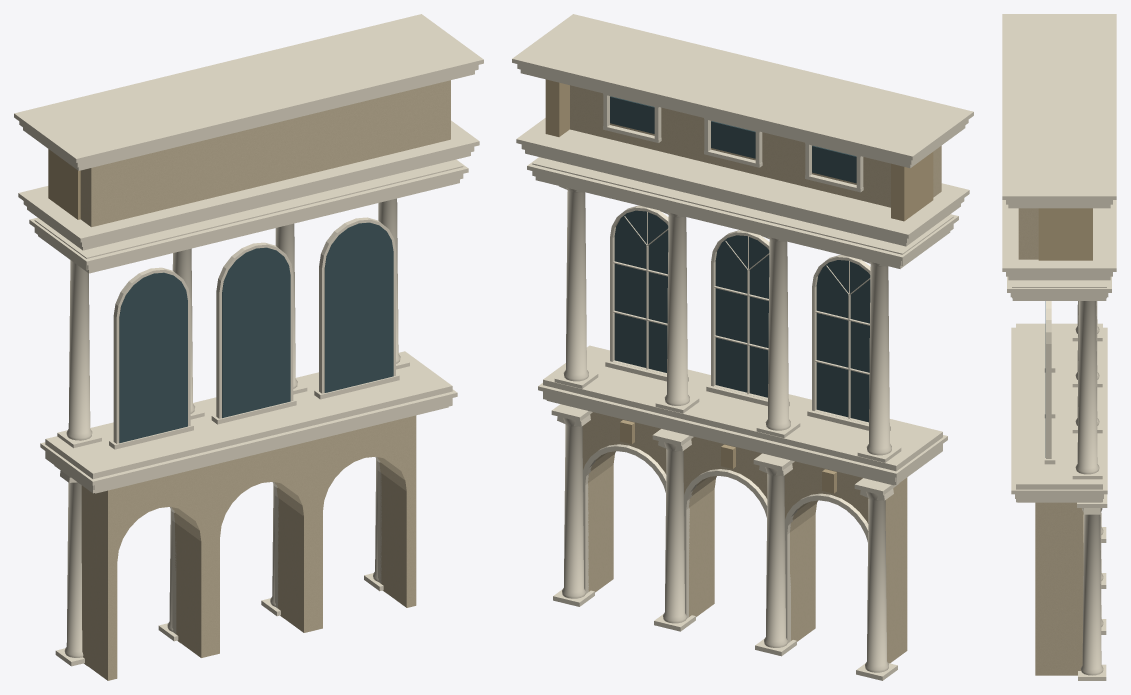
File: KOL_T1_INDIAN_MUSEUM__02_EntrancePortico.fbx
3 views of the same model, side by side, from view 1: azimuth 30°, elevation 25°; view 2: azimuth 150°, elevation 25°; view 3: azimuth 270°, elevation 25° (orthographic). The views are drawn at different scales.
Visible parts, largest first — view 1: KOL_T1_INDIAN_MUSEUM__02_EntrancePortico__KOL_T1_B4_MuseumTr, KOL_T1_INDIAN_MUSEUM__02_EntrancePortico__KOL_T1_B4_MuseumWa, KOL_T1_INDIAN_MUSEUM__02_EntrancePortico__KOL_T1_B4_Glass_00, KOL_T1_INDIAN_MUSEUM__02_EntrancePortico__KOL_T1_B4_MuseumBa; view 2: KOL_T1_INDIAN_MUSEUM__02_EntrancePortico__KOL_T1_B4_MuseumTr, KOL_T1_INDIAN_MUSEUM__02_EntrancePortico__KOL_T1_B4_MuseumWa, KOL_T1_INDIAN_MUSEUM__02_EntrancePortico__KOL_T1_B4_Glass_00, KOL_T1_INDIAN_MUSEUM__02_EntrancePortico__KOL_T1_B4_MuseumBa; view 3: KOL_T1_INDIAN_MUSEUM__02_EntrancePortico__KOL_T1_B4_MuseumTr, KOL_T1_INDIAN_MUSEUM__02_EntrancePortico__KOL_T1_B4_MuseumWa, KOL_T1_INDIAN_MUSEUM__02_EntrancePortico__KOL_T1_B4_MuseumBa.
Boxes of the visible parts, left/top/right/bottom form: KOL_T1_INDIAN_MUSEUM__02_EntrancePortico__KOL_T1_B4_MuseumTr: left=14, top=14, right=483, bottom=666; KOL_T1_INDIAN_MUSEUM__02_EntrancePortico__KOL_T1_B4_MuseumWa: left=80, top=80, right=450, bottom=680; KOL_T1_INDIAN_MUSEUM__02_EntrancePortico__KOL_T1_B4_Glass_00: left=119, top=222, right=393, bottom=443; KOL_T1_INDIAN_MUSEUM__02_EntrancePortico__KOL_T1_B4_MuseumBa: left=48, top=149, right=80, bottom=219; KOL_T1_INDIAN_MUSEUM__02_EntrancePortico__KOL_T1_B4_MuseumTr: left=512, top=14, right=973, bottom=680; KOL_T1_INDIAN_MUSEUM__02_EntrancePortico__KOL_T1_B4_MuseumWa: left=570, top=85, right=941, bottom=663; KOL_T1_INDIAN_MUSEUM__02_EntrancePortico__KOL_T1_B4_Glass_00: left=610, top=96, right=870, bottom=422; KOL_T1_INDIAN_MUSEUM__02_EntrancePortico__KOL_T1_B4_MuseumBa: left=545, top=79, right=933, bottom=493; KOL_T1_INDIAN_MUSEUM__02_EntrancePortico__KOL_T1_B4_MuseumTr: left=1002, top=14, right=1116, bottom=680; KOL_T1_INDIAN_MUSEUM__02_EntrancePortico__KOL_T1_B4_MuseumWa: left=1018, top=208, right=1083, bottom=675; KOL_T1_INDIAN_MUSEUM__02_EntrancePortico__KOL_T1_B4_MuseumBa: left=1038, top=208, right=1092, bottom=260.
Size of the model in its own units: 47.6 by 61.62 by 12.6.
4 materials, 1 textured.
